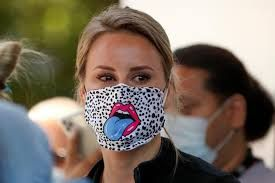with-mask: (74, 27, 181, 155)
